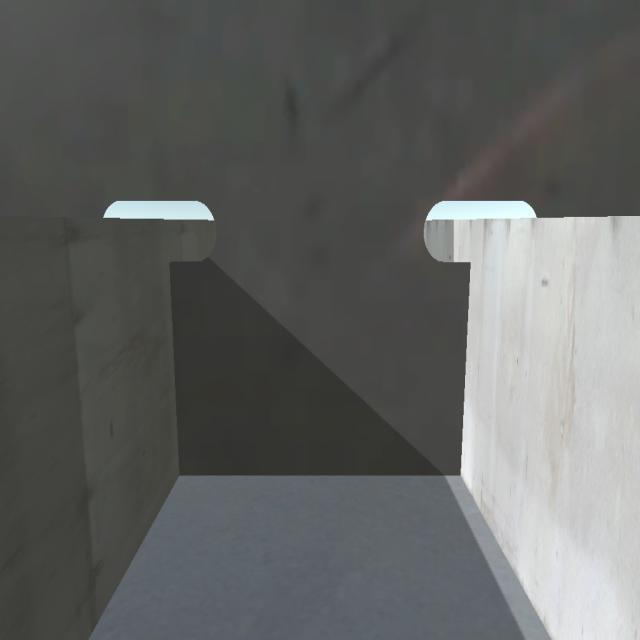fillet_yong_jeop_jang: (176, 463, 455, 485)
longi_yong_jeop_jang: (449, 260, 475, 486), (165, 261, 188, 482)
